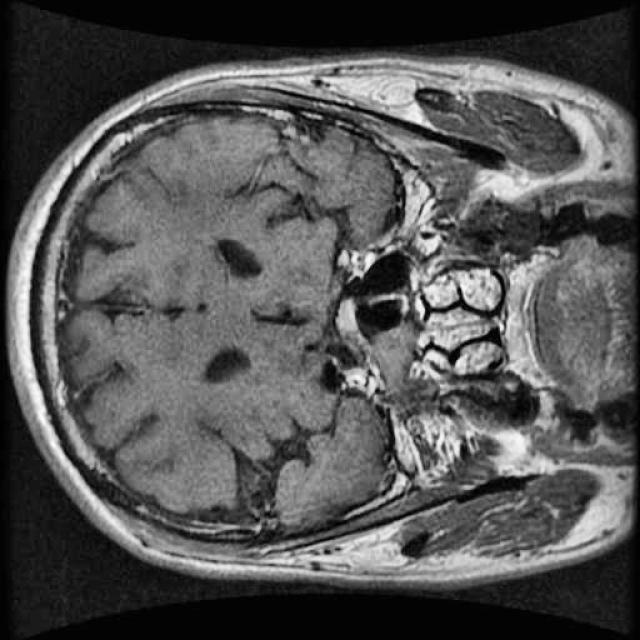Tumor: (330, 289, 381, 365)
